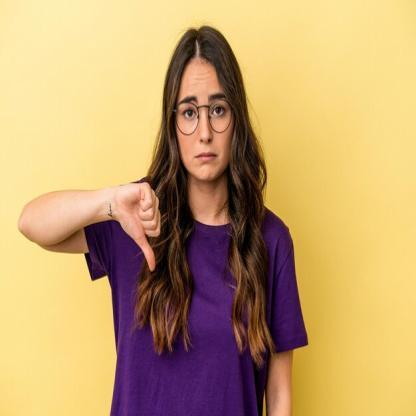thumb_down: (114, 179, 163, 274)
